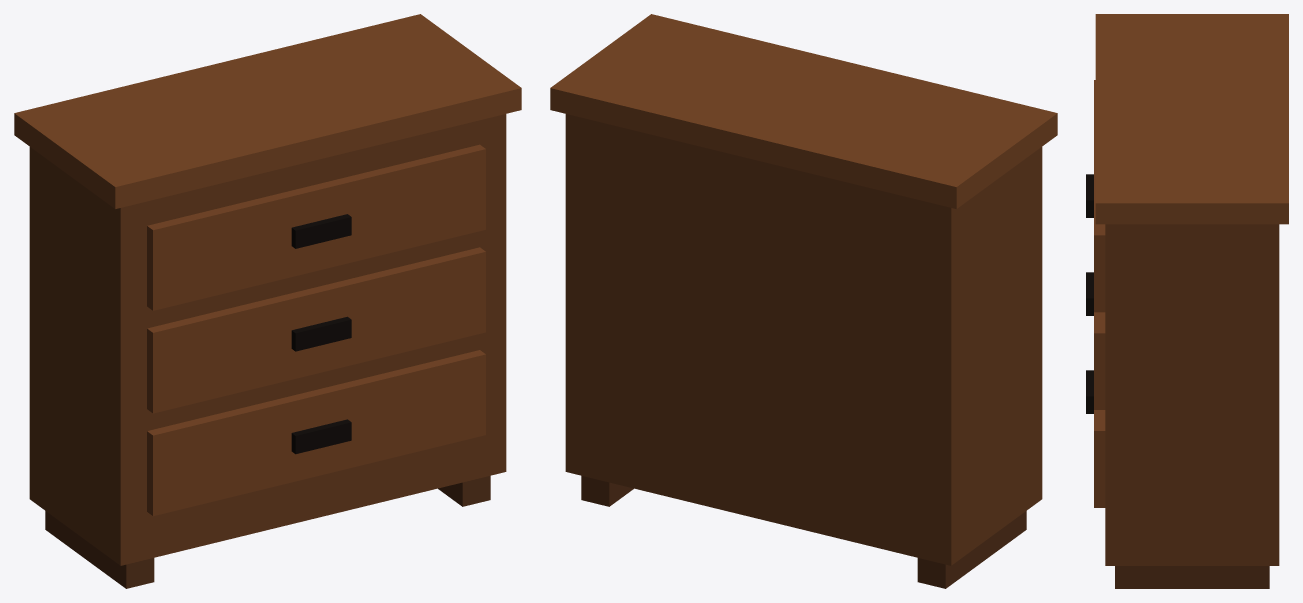
Rendered from dresser.obj.
The picture shows the model from 3 angles, left to right: view 1: azimuth 30°, elevation 25°; view 2: azimuth 150°, elevation 25°; view 3: azimuth 270°, elevation 25°; orthographic projection. The views are drawn at different scales.
Size of the model in its own units: 1.16 by 1.13 by 0.525.
